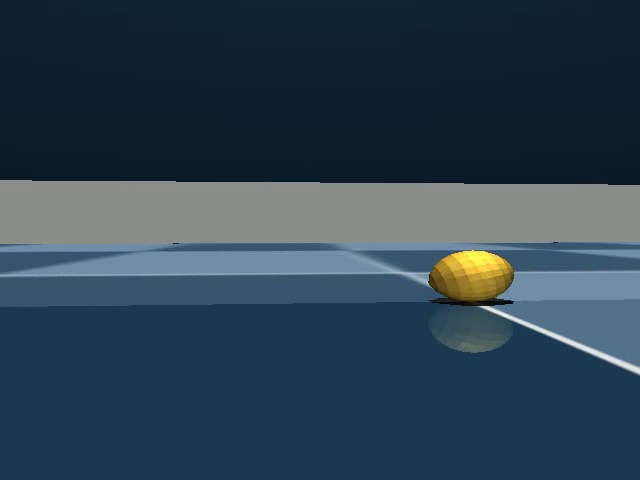lemon: (421, 245, 522, 309)
